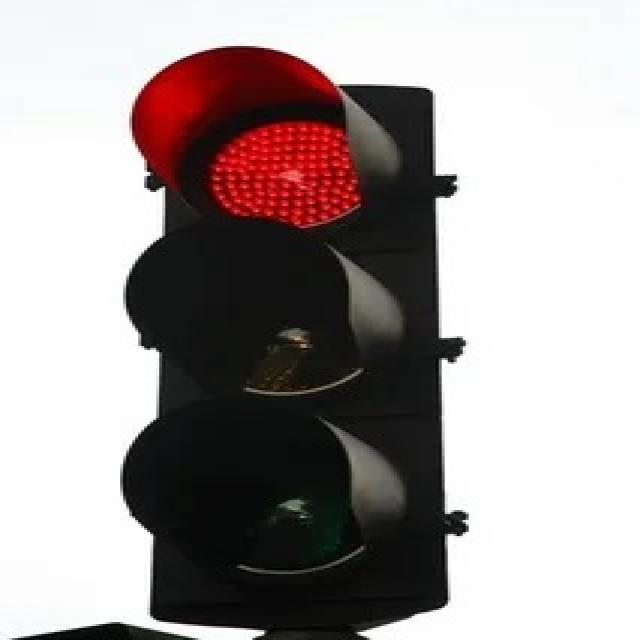kirmizi: (125, 48, 447, 615)
